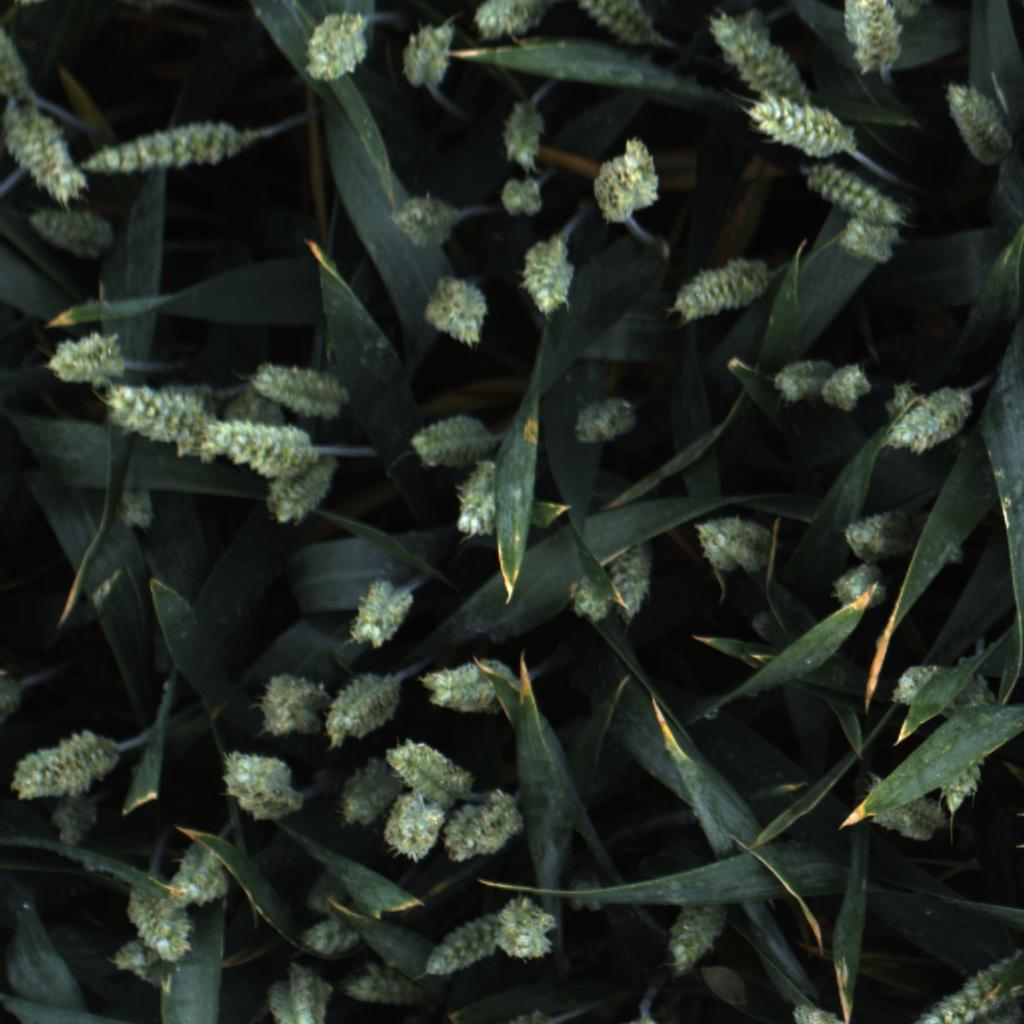0-0: (84, 107, 242, 183), (938, 682, 1015, 816), (895, 942, 1016, 1024), (6, 94, 91, 204), (102, 385, 216, 467), (709, 4, 804, 99), (11, 718, 121, 800), (200, 418, 311, 486), (248, 350, 352, 422), (667, 256, 777, 323), (882, 649, 986, 717), (745, 98, 857, 161), (287, 7, 376, 86), (317, 669, 399, 754), (939, 76, 1015, 167), (884, 384, 982, 454), (587, 137, 666, 222), (221, 747, 305, 826), (387, 731, 474, 806), (126, 881, 203, 965), (444, 790, 526, 868), (805, 164, 908, 224), (343, 574, 422, 652), (513, 233, 580, 324), (686, 509, 774, 577), (486, 890, 565, 964), (421, 277, 493, 356), (416, 658, 518, 713), (43, 325, 129, 390), (546, 0, 657, 50), (864, 782, 950, 846), (423, 907, 496, 981), (372, 792, 447, 864), (28, 206, 125, 261), (401, 410, 497, 465), (383, 183, 458, 253), (212, 375, 293, 439), (835, 0, 906, 73), (264, 461, 343, 526), (253, 671, 326, 741), (664, 901, 731, 976), (397, 15, 458, 97), (328, 756, 392, 833), (165, 837, 229, 914), (453, 458, 511, 542), (331, 959, 433, 1005), (836, 505, 913, 565), (555, 853, 618, 918), (612, 542, 661, 625), (568, 390, 643, 444), (262, 967, 330, 1024), (466, 0, 553, 44), (110, 475, 164, 545), (46, 790, 112, 847), (498, 103, 553, 170), (820, 354, 880, 415), (827, 566, 894, 616), (107, 933, 178, 980), (289, 913, 358, 959), (559, 572, 614, 629), (839, 214, 899, 263), (769, 350, 825, 402), (494, 173, 552, 222)
